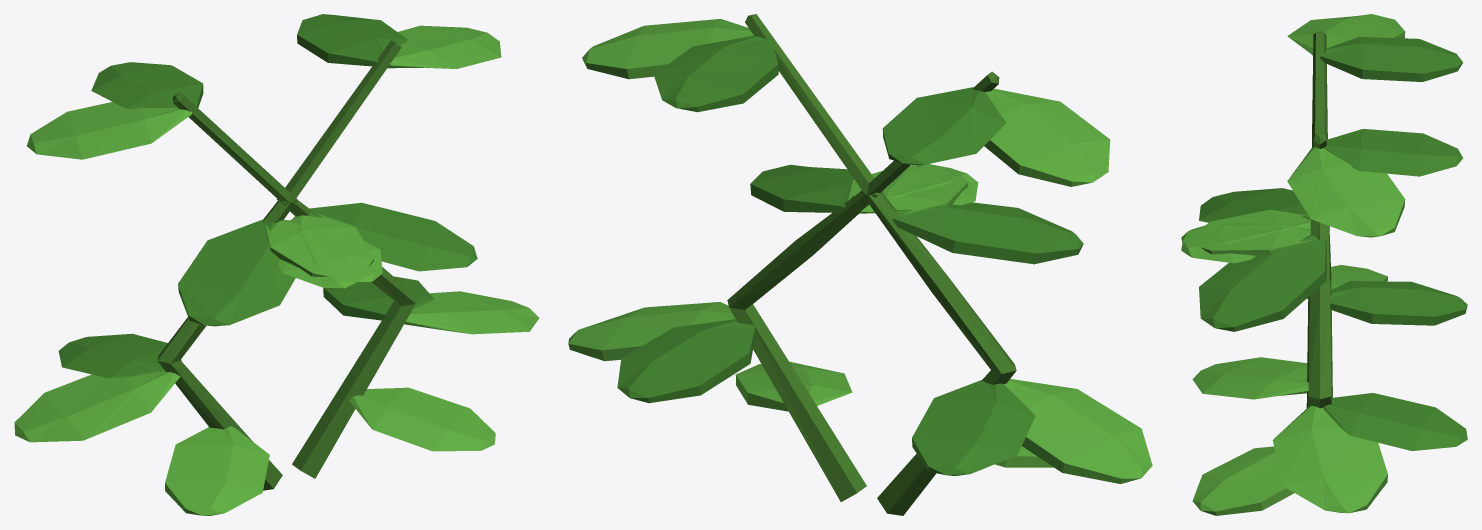
The model's file is greenbean_1.gltf.
3 views of the same model, side by side, from view 1: azimuth 30°, elevation 25°; view 2: azimuth 150°, elevation 25°; view 3: azimuth 270°, elevation 25° (orthographic). The views are drawn at different scales.
Visible parts, largest first — view 1: greenbean_1; view 2: greenbean_1; view 3: greenbean_1.
Boxes of the visible parts, x1,y1,x2,y2 form: greenbean_1: [14, 14, 539, 515]; greenbean_1: [568, 14, 1152, 515]; greenbean_1: [1181, 14, 1467, 515].
Bounding box in the file's own units: 1.06 × 0.8202 × 0.5247.
